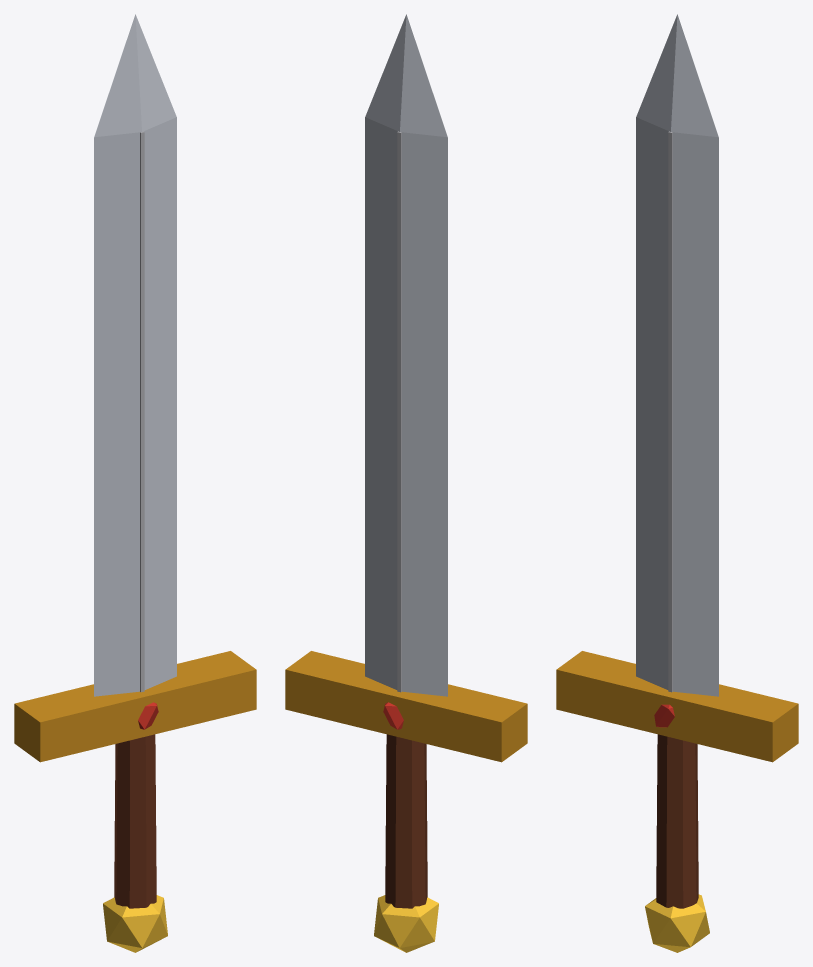
File: Sword.glb
3 views of the same model, side by side, from view 1: azimuth 30°, elevation 25°; view 2: azimuth 150°, elevation 25°; view 3: azimuth 330°, elevation 25° (orthographic).
Visible parts, largest first — view 1: Sword; view 2: Sword; view 3: Sword.
Part boxes in pixels (<box>): Sword: <box>14,14,256,952</box>; Sword: <box>285,14,527,952</box>; Sword: <box>556,14,798,952</box>.
Size of the model in its own units: 0.34 by 1.41 by 0.0851.
Materials: 1 (1 with a texture image).
